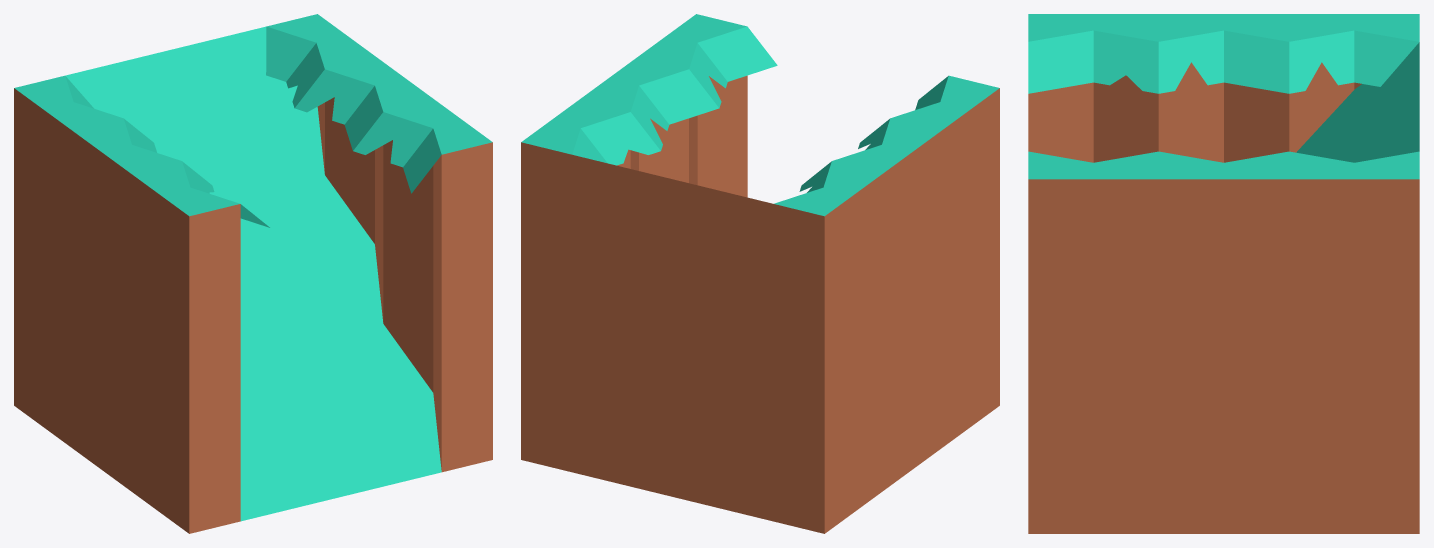
File: cliff_blockSlopeWalls_rock.dae
3 renders of one model, left to right at view 1: azimuth 30°, elevation 25°; view 2: azimuth 150°, elevation 25°; view 3: azimuth 270°, elevation 25°, orthographic. The views are drawn at different scales.
Parts seen in each view (by area): view 1: cliff_blockSlopeWalls_rock; view 2: cliff_blockSlopeWalls_rock; view 3: cliff_blockSlopeWalls_rock.
Part boxes in pixels (bbox=[...]): cliff_blockSlopeWalls_rock: bbox=[14, 14, 492, 533]; cliff_blockSlopeWalls_rock: bbox=[521, 14, 999, 533]; cliff_blockSlopeWalls_rock: bbox=[1028, 14, 1419, 533].
Size of the model in its own units: 1 by 1 by 1.
